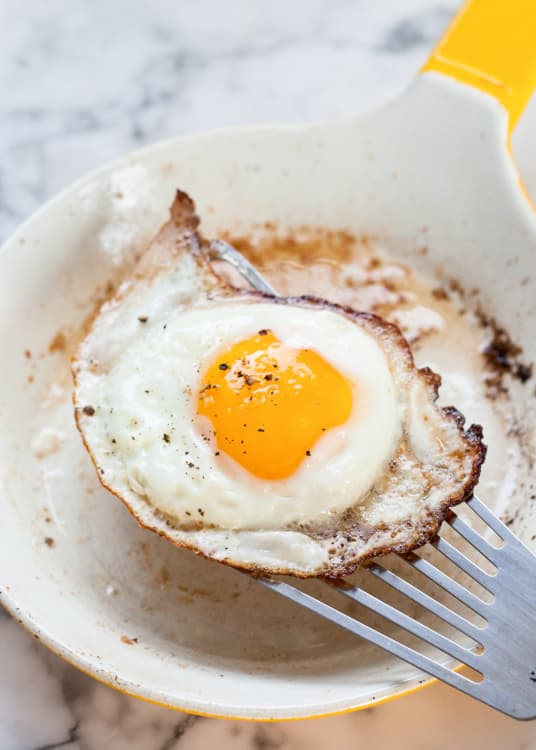fried egg: (108, 300, 436, 552)
